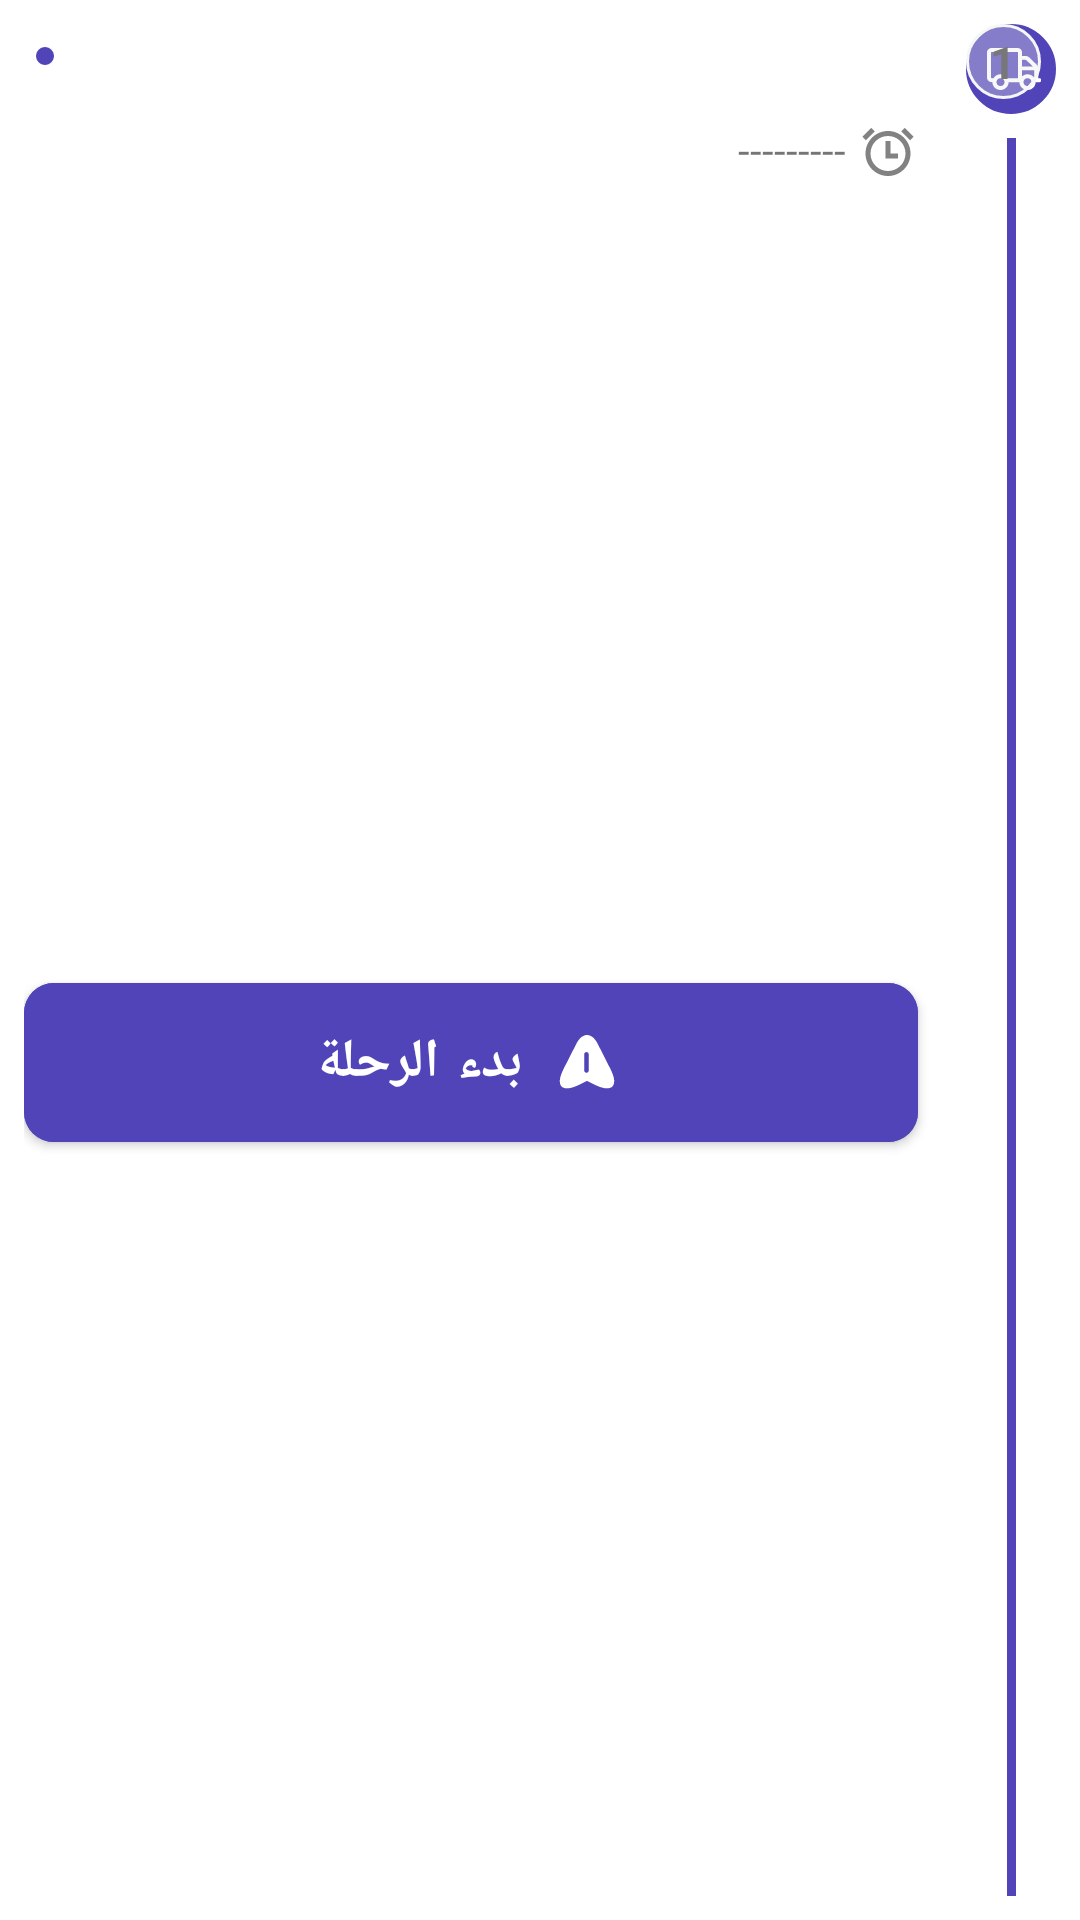

Icons on this 1080w x 1920h Android screen, each with its box as (x1,y1,x2,y2):
delivery: (966,24,1056,114)
